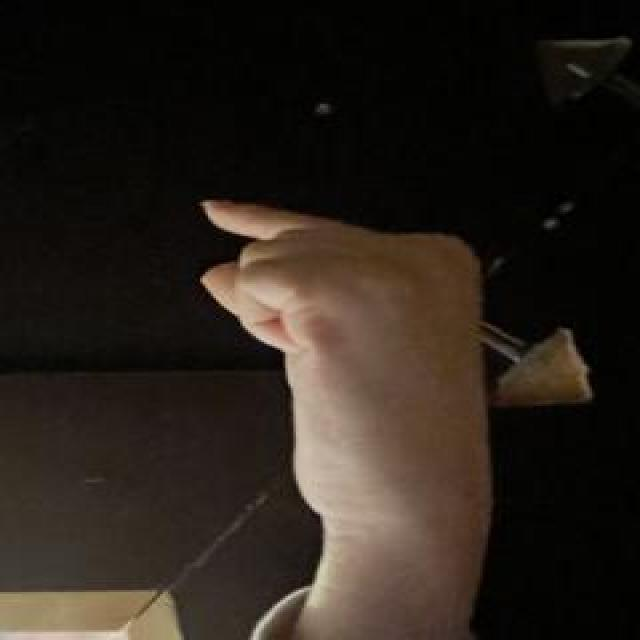G: (201, 195, 495, 535)
